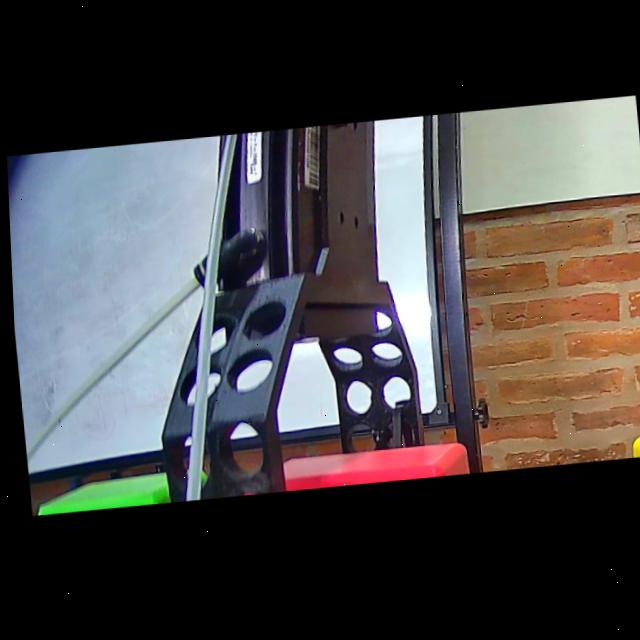greenBox: (27, 474, 216, 516)
redBox: (237, 446, 474, 498)
yellowBox: (618, 433, 640, 463)
